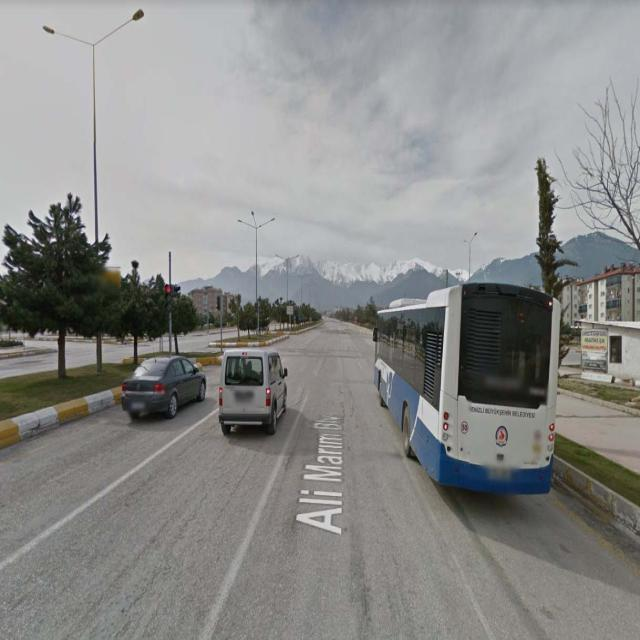kirmizi: (165, 284, 172, 312)
